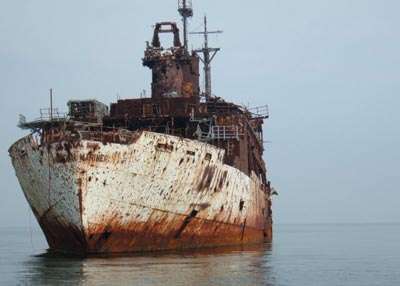rust: (92, 226, 267, 249), (110, 98, 207, 123), (232, 110, 265, 174), (154, 57, 198, 94)
